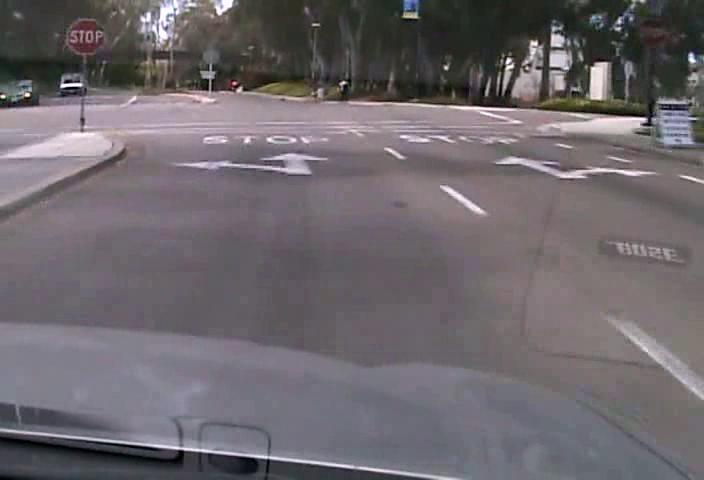stop: (65, 17, 105, 55)
